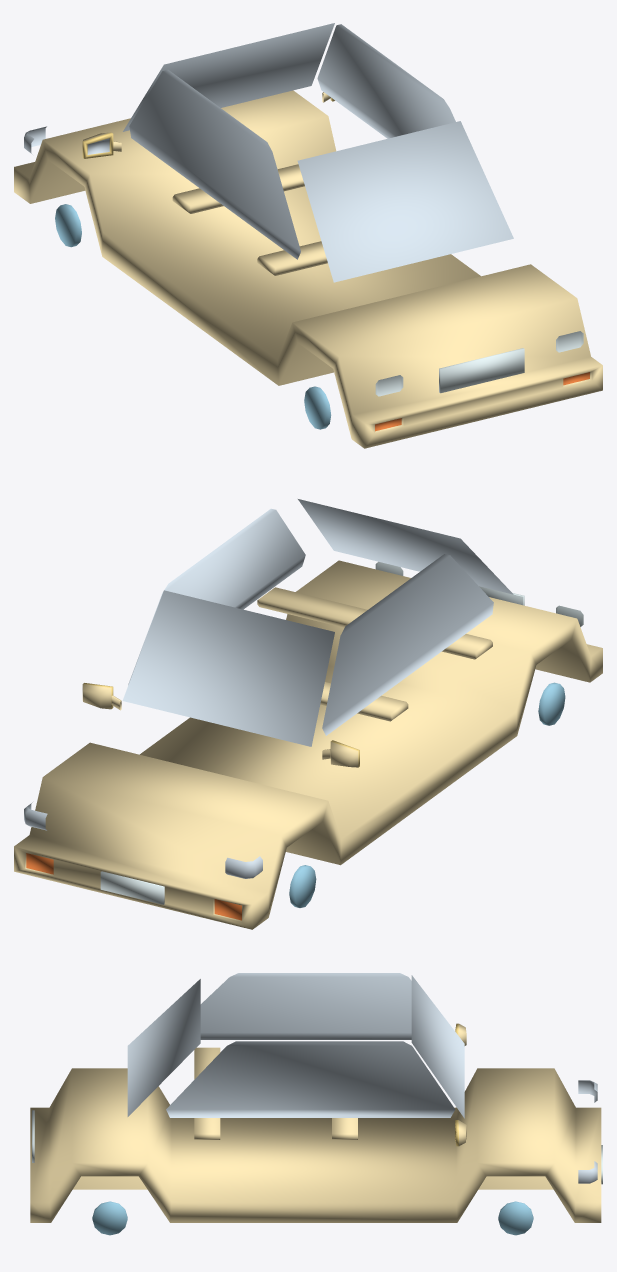
Rendered from Car_09.fbx.
3 renders of one model, top to bottom at view 1: azimuth 30°, elevation 25°; view 2: azimuth 150°, elevation 25°; view 3: azimuth 270°, elevation 25°, orthographic. The views are drawn at different scales.
Visible parts, largest first — view 1: CarA_T; view 2: CarA_T; view 3: CarA_T.
Part boxes in pixels (<box>): CarA_T: <box>14,23,602,448</box>; CarA_T: <box>14,499,602,929</box>; CarA_T: <box>30,973,602,1235</box>.
Bounding box in the file's own units: 77.68 × 68.68 × 177.
1 material, 1 textured.
